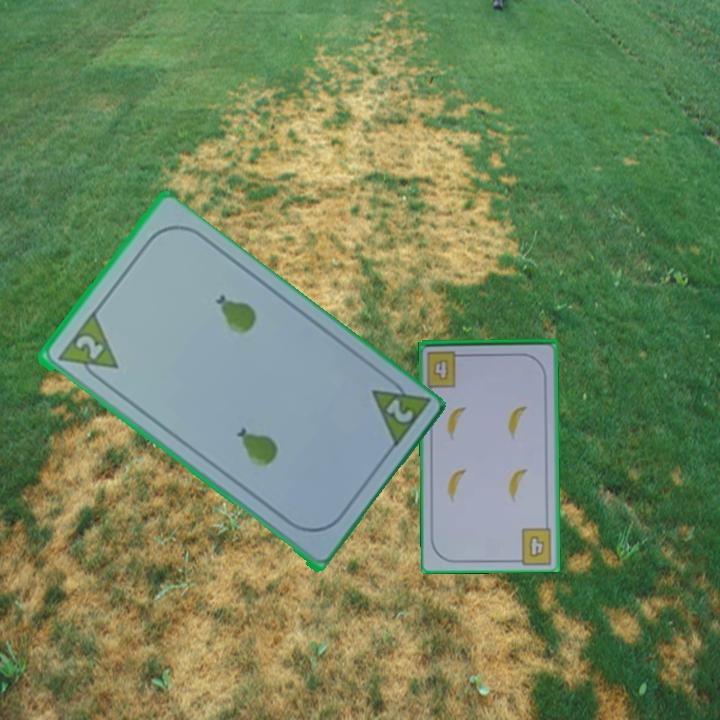2p: (71, 331, 106, 363), (381, 394, 416, 426)
4b: (423, 347, 468, 389), (525, 533, 548, 560)
